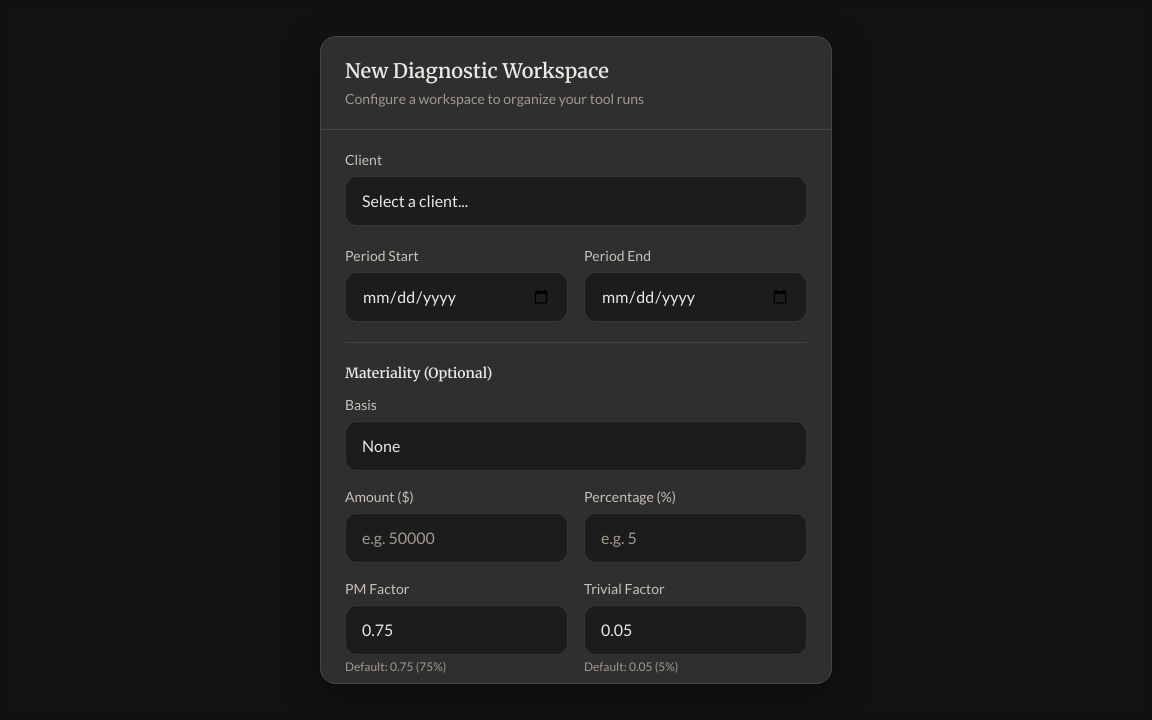
it: CreateEngagementModal › shows error when period end is before period start
Select "Acme Corp" in the dropdown showing "Select a client...": {"x": 576, "y": 201} top-left (345, 176), bottom-right (807, 226)
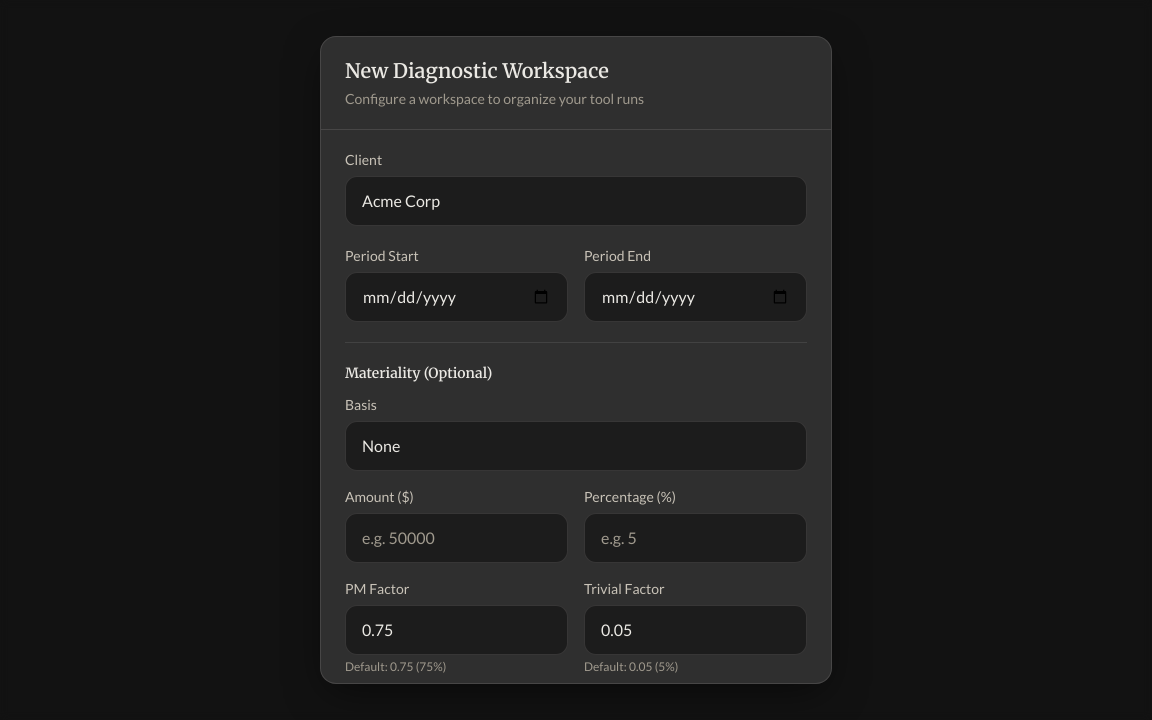
In the date field labelled "Period Start": {"x": 456, "y": 297} top-left (345, 272), bottom-right (568, 322), type "2025-12-31"
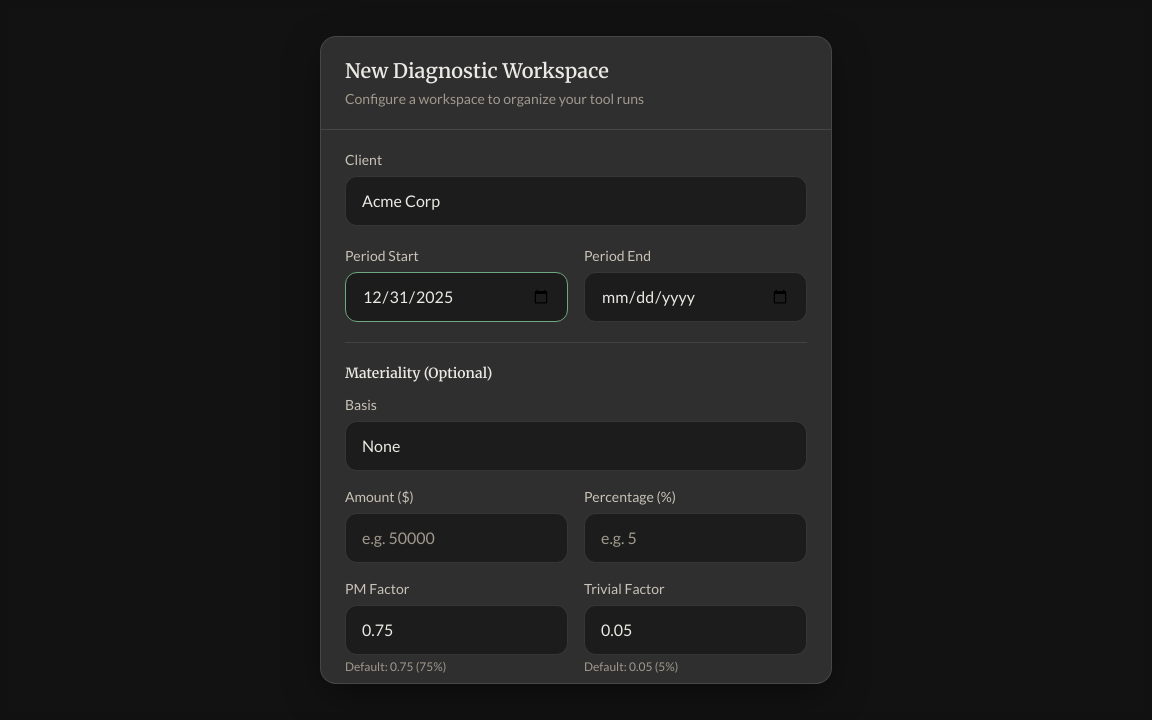
In the date field labelled "Period End": {"x": 696, "y": 297} top-left (584, 272), bottom-right (807, 322), type "2025-01-01"
(page scrolled)
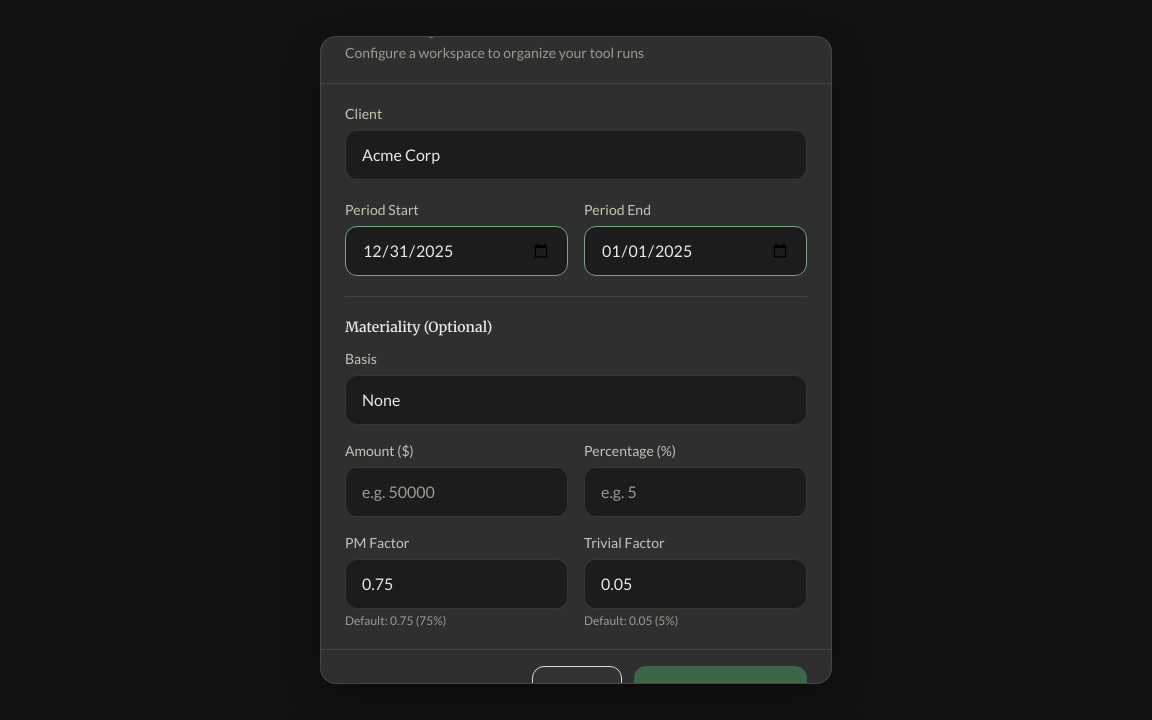
Submit the text "Create Workspace"
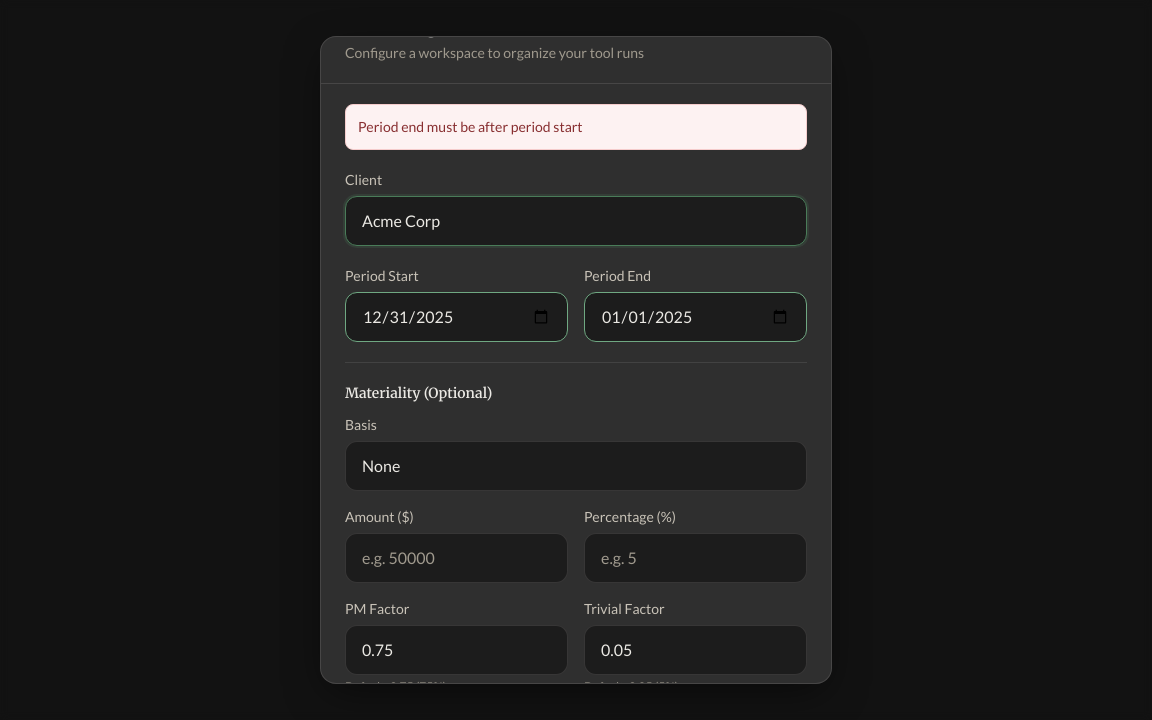
Expected: the text "Period end must be after period start" is shown, top-left (358, 118), bottom-right (583, 135)
